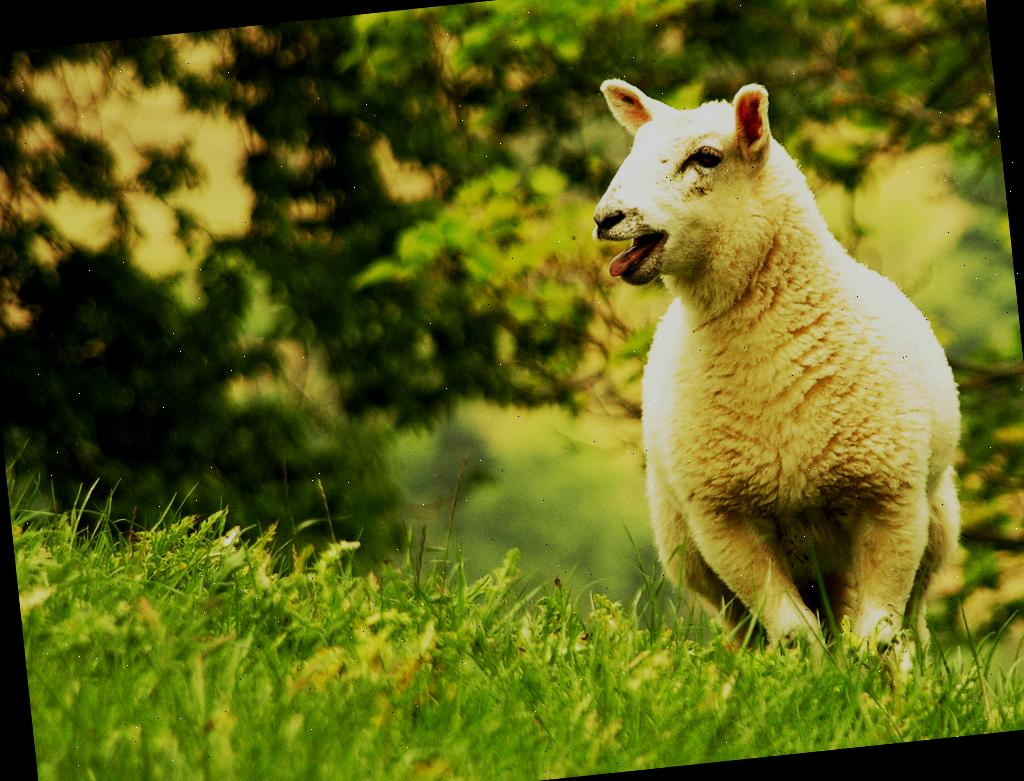Sheep: (577, 22, 998, 721)
